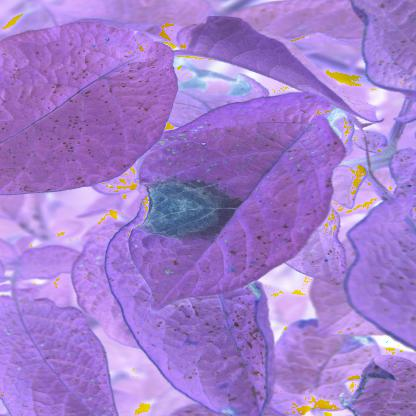potato leaf late blight: (154, 84, 416, 232)
